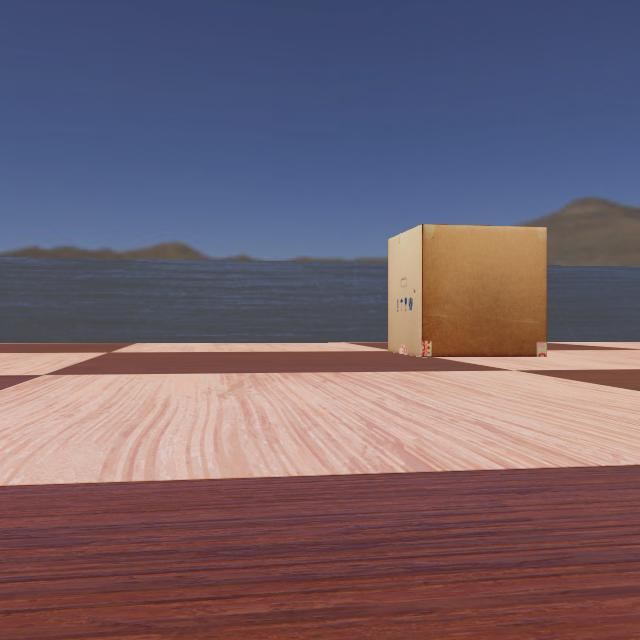cardboard-box: (385, 223, 553, 357)
